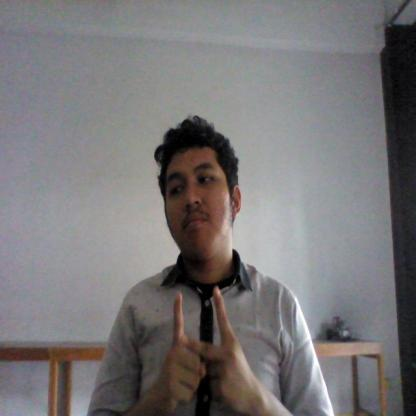H: (159, 280, 251, 414)
